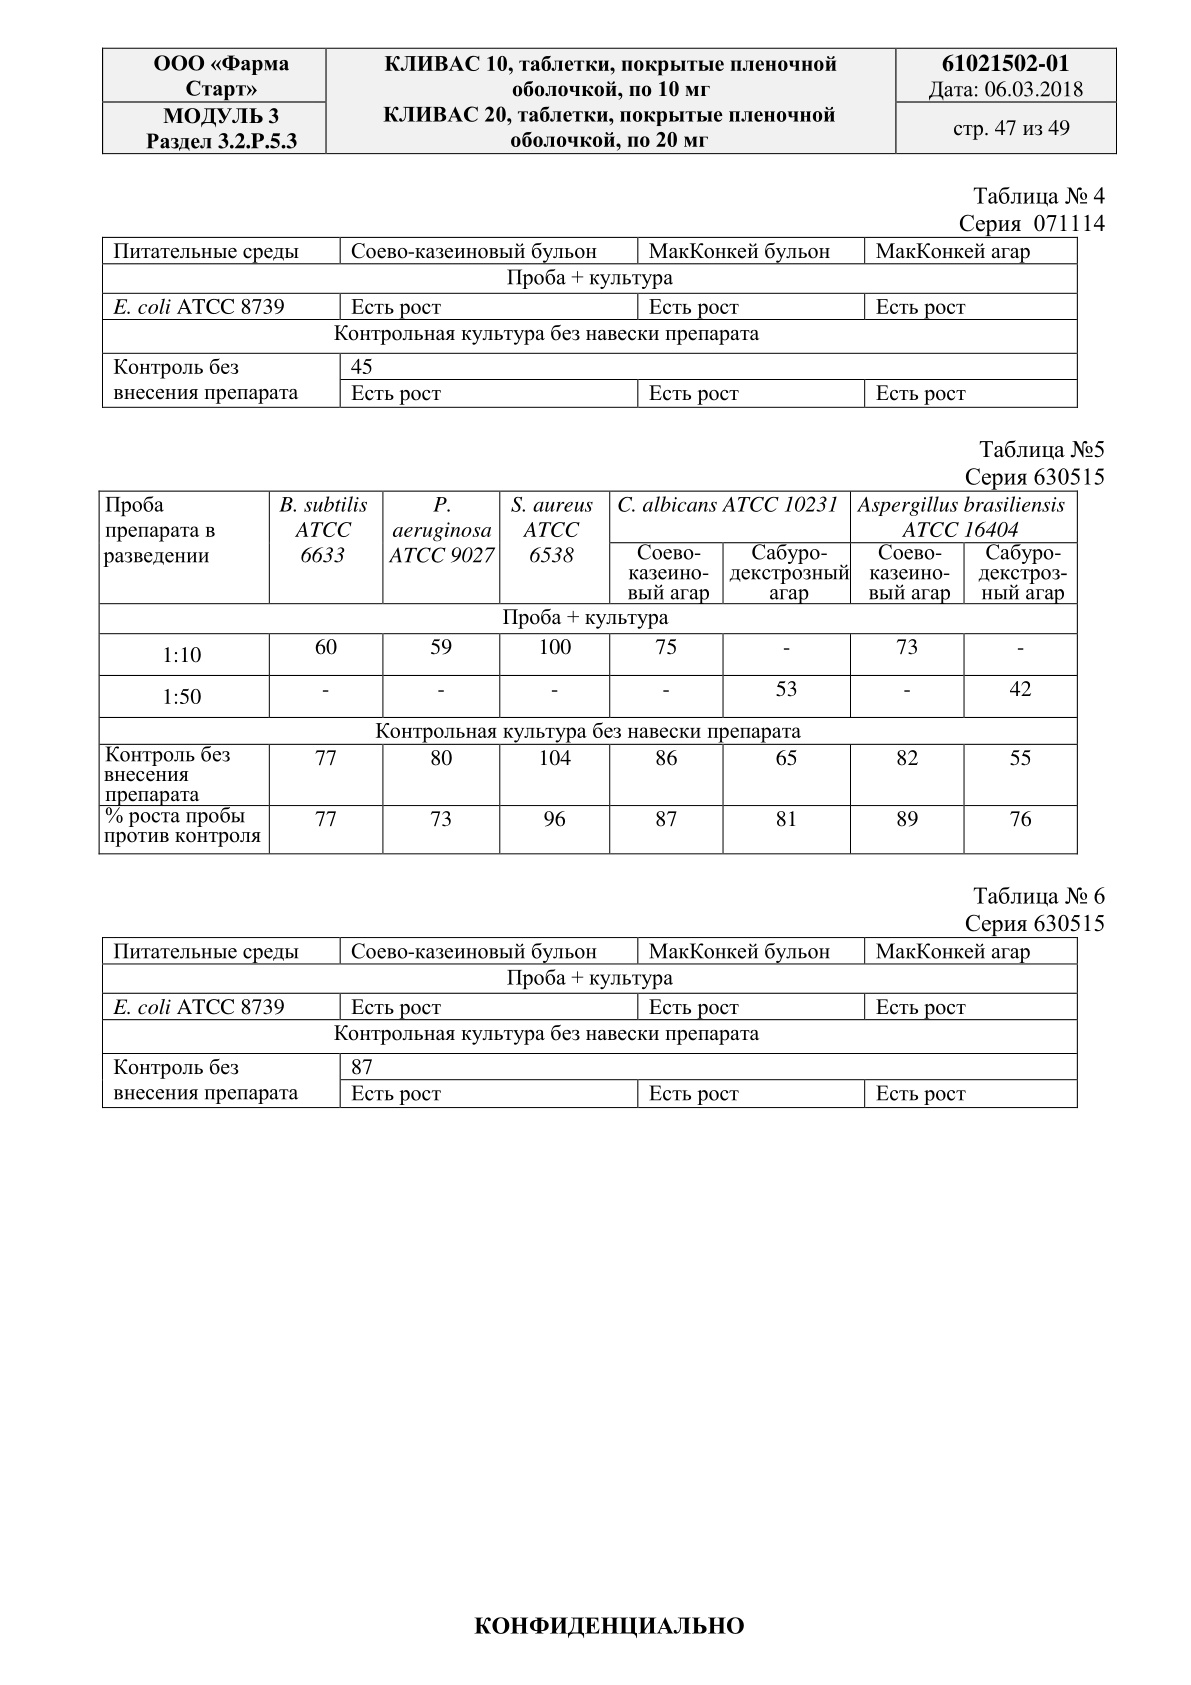merged_cells: (95, 489, 1079, 855), (101, 936, 1079, 1109), (101, 236, 1078, 409), (101, 46, 1118, 155)
